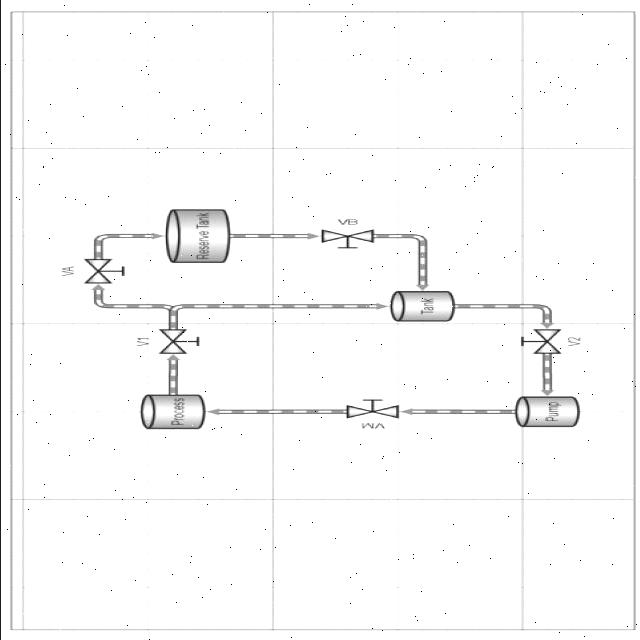Hand Operated Gate Valve: (512, 326, 569, 358), (74, 258, 132, 288), (149, 329, 209, 356), (316, 227, 380, 252), (337, 397, 401, 420)
